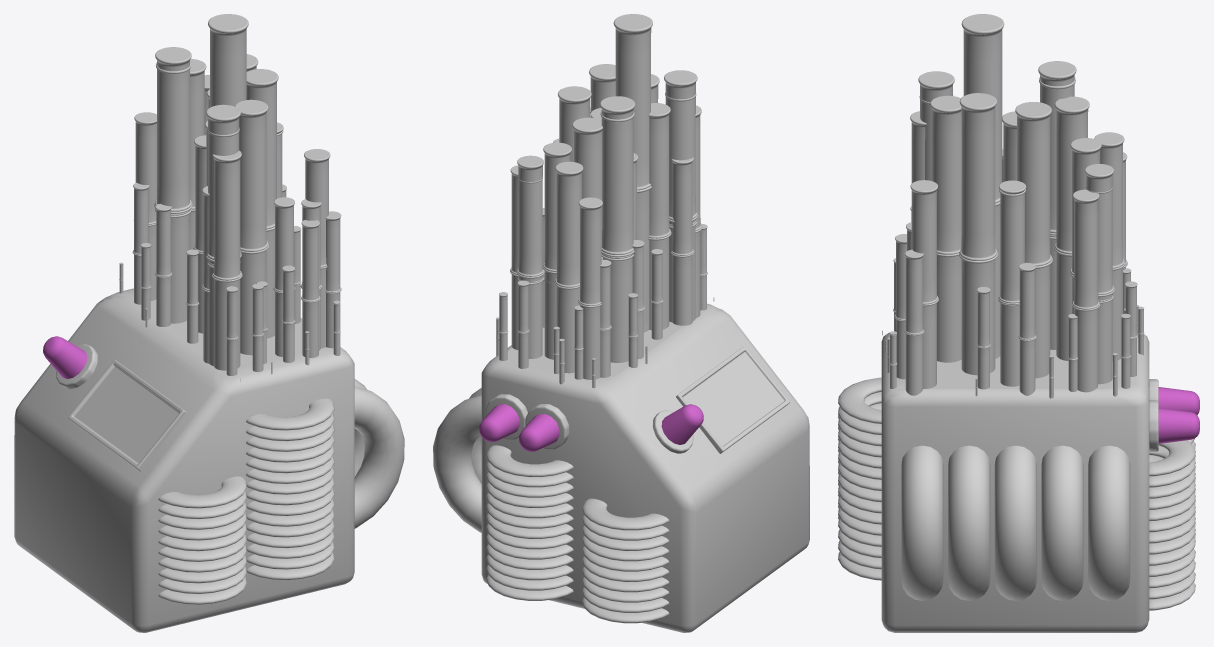
File: Fabrik.obj
3 views of the same model, side by side, from view 1: azimuth 30°, elevation 25°; view 2: azimuth 150°, elevation 25°; view 3: azimuth 270°, elevation 25° (orthographic). The views are drawn at different scales.
Parts seen in each view (by area): view 1: Cube_Cube.007, Cylinder.009, Cylinder.005_Cylinder.021, Cylinder.006_Cylinder.022, Cube.001_Cube.008, Cylinder_Cylinder.010, Cylinder.010_Cylinder.025, Cylinder.011_Cylinder.026; view 2: Cylinder.009, Cube_Cube.007, Cylinder.008_Cylinder.024, Cylinder.007_Cylinder.023, Cube.001_Cube.008, Cylinder_Cylinder.010, Cylinder.010_Cylinder.025, Cylinder.001_Cylinder.015, Cylinder.004_Cylinder.020, Cylinder.003_Cylinder.019, Cylinder.002_Cylinder.016, Cylinder.011_Cylinder.026; view 3: Cylinder.009, Cube_Cube.007, Cylinder_Cylinder.010, Cylinder.005_Cylinder.021, Cylinder.008_Cylinder.024, Cylinder.001_Cylinder.015, Cylinder.004_Cylinder.020, Cylinder.002_Cylinder.016.
Part boxes in pixels (left/top/right/bottom): Cube_Cube.007: left=14, top=288, right=354, bottom=632; Cylinder.009: left=119, top=14, right=341, bottom=381; Cylinder.005_Cylinder.021: left=246, top=398, right=334, bottom=580; Cylinder.006_Cylinder.022: left=158, top=476, right=246, bottom=604; Cube.001_Cube.008: left=68, top=360, right=186, bottom=471; Cylinder_Cylinder.010: left=354, top=379, right=404, bottom=528; Cylinder.010_Cylinder.025: left=43, top=336, right=87, bottom=379; Cylinder.011_Cylinder.026: left=56, top=344, right=97, bottom=388; Cylinder.009: left=491, top=14, right=714, bottom=388; Cube_Cube.007: left=481, top=303, right=809, bottom=632; Cylinder.008_Cylinder.024: left=486, top=445, right=573, bottom=600; Cylinder.007_Cylinder.023: left=582, top=498, right=669, bottom=623; Cube.001_Cube.008: left=676, top=346, right=789, bottom=453; Cylinder_Cylinder.010: left=433, top=388, right=481, bottom=532; Cylinder.010_Cylinder.025: left=661, top=404, right=703, bottom=444; Cylinder.001_Cylinder.015: left=479, top=404, right=519, bottom=441; Cylinder.004_Cylinder.020: left=519, top=414, right=559, bottom=451; Cylinder.003_Cylinder.019: left=525, top=404, right=569, bottom=449; Cylinder.002_Cylinder.016: left=485, top=394, right=527, bottom=439; Cylinder.011_Cylinder.026: left=652, top=410, right=693, bottom=453; Cylinder.009: left=882, top=14, right=1148, bottom=398; Cube_Cube.007: left=881, top=332, right=1149, bottom=632; Cylinder_Cylinder.010: left=901, top=445, right=1130, bottom=600; Cylinder.005_Cylinder.021: left=838, top=377, right=881, bottom=580; Cylinder.008_Cylinder.024: left=1149, top=440, right=1195, bottom=610; Cylinder.001_Cylinder.015: left=1158, top=408, right=1199, bottom=443; Cylinder.004_Cylinder.020: left=1158, top=387, right=1199, bottom=415; Cylinder.002_Cylinder.016: left=1149, top=400, right=1158, bottom=451.
Size of the model in its own units: 1.93 by 3.57 by 2.04.
